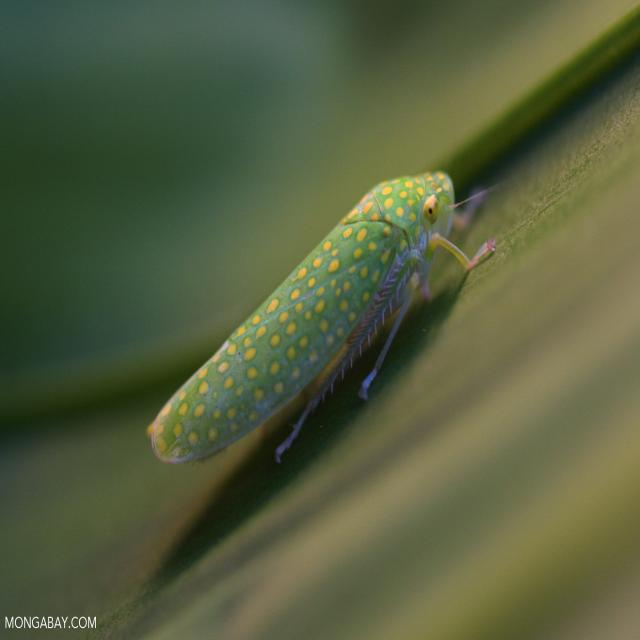Yechan: (137, 166, 508, 496)
